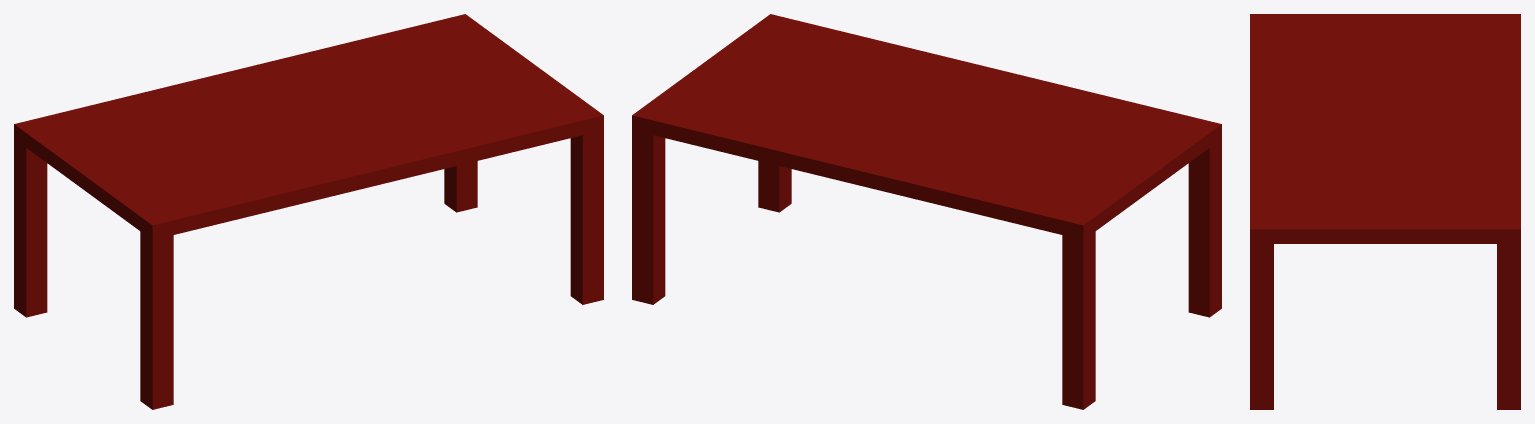
Rendered from Table.fbx.
3 renders of one model, left to right at view 1: azimuth 30°, elevation 25°; view 2: azimuth 150°, elevation 25°; view 3: azimuth 270°, elevation 25°, orthographic. The views are drawn at different scales.
Parts seen in each view (by area): view 1: Matrix; view 2: Matrix; view 3: Matrix.
Boxes of the visible parts, x1,y1,x2,y2 form: Matrix: [14, 14, 603, 409]; Matrix: [632, 14, 1221, 409]; Matrix: [1250, 14, 1520, 409].
Size of the model in its own units: 64 by 25 by 34.
